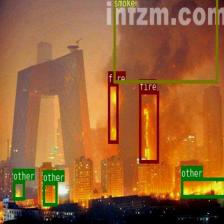fire: (139, 91, 158, 162), (108, 82, 118, 143)
smoke: (114, 0, 218, 82)
